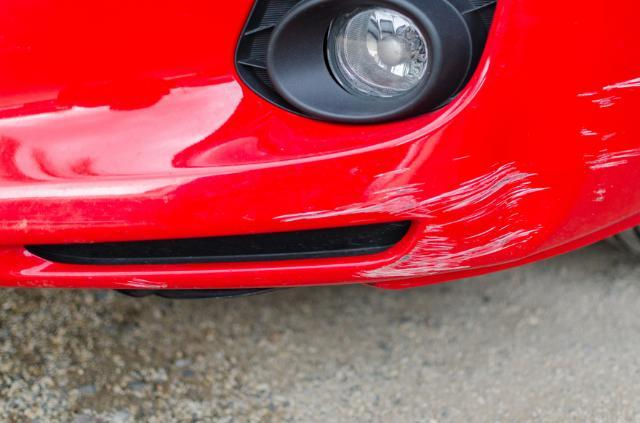Bumper: (0, 106, 640, 304)
